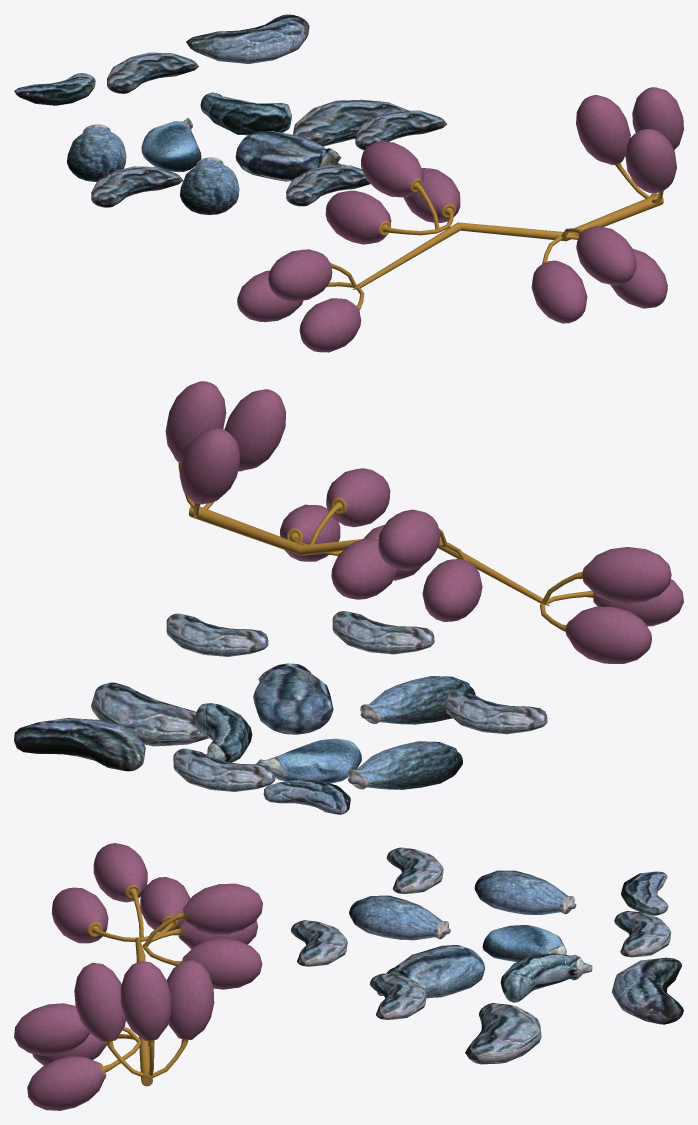
The model's file is nvzhenzi.FBX.
The picture shows the model from 3 angles, top to bottom: view 1: azimuth 30°, elevation 25°; view 2: azimuth 150°, elevation 25°; view 3: azimuth 270°, elevation 25°; orthographic projection. The views are drawn at different scales.
Visible parts, largest first — view 1: Sphere013, Sphere011, Sphere012, Sphere010, Sphere007, Sphere008, Sphere004, Cylinder001, Sphere003, Sphere014, Sphere001, Sphere002 (+5 smaller); view 2: Sphere010, Sphere013, Sphere011, Sphere012, Sphere007, Sphere008, Sphere004, Sphere001, Sphere014, Sphere002, Sphere016, Sphere015 (+5 smaller); view 3: Sphere013, Sphere011, Sphere010, Sphere012, Sphere007, Sphere004, Sphere008, Sphere001, Sphere014, Sphere003, Sphere002, Sphere017 (+5 smaller).
Part boxes in pixels (box(x1,y1,x2,y2)): Sphere013: box(576, 87, 683, 203); Sphere011: box(325, 141, 460, 244); Sphere012: box(531, 226, 667, 323); Sphere010: box(237, 249, 364, 352); Sphere007: box(186, 14, 309, 63); Sphere008: box(235, 131, 346, 181); Sphere004: box(293, 99, 407, 146); Cylinder001: box(352, 193, 663, 289); Sphere003: box(200, 92, 291, 135); Sphere014: box(180, 157, 239, 214); Sphere001: box(67, 124, 126, 181); Sphere002: box(141, 118, 201, 172); Sphere010: box(540, 547, 683, 663); Sphere013: box(165, 381, 285, 518); Sphere011: box(331, 509, 482, 621); Sphere012: box(280, 468, 422, 580); Sphere007: box(14, 718, 145, 771); Sphere008: box(253, 663, 333, 734); Sphere004: box(91, 682, 208, 746); Sphere001: box(347, 741, 462, 789); Sphere014: box(360, 676, 475, 724); Sphere002: box(256, 738, 361, 783); Sphere016: box(332, 611, 434, 654); Sphere015: box(166, 613, 268, 656); Sphere013: box(74, 960, 214, 1077); Sphere011: box(142, 883, 262, 989); Sphere010: box(51, 843, 190, 943); Sphere012: box(14, 1003, 140, 1110); Sphere007: box(612, 957, 683, 1024); Sphere004: box(465, 1003, 541, 1064); Sphere008: box(377, 945, 484, 998); Sphere001: box(474, 870, 576, 914); Sphere014: box(349, 895, 450, 940); Sphere003: box(500, 953, 592, 1002); Sphere002: box(482, 925, 566, 961); Sphere017: box(386, 847, 443, 893).
Size of the model in its own units: 66.64 by 23.67 by 83.14.
